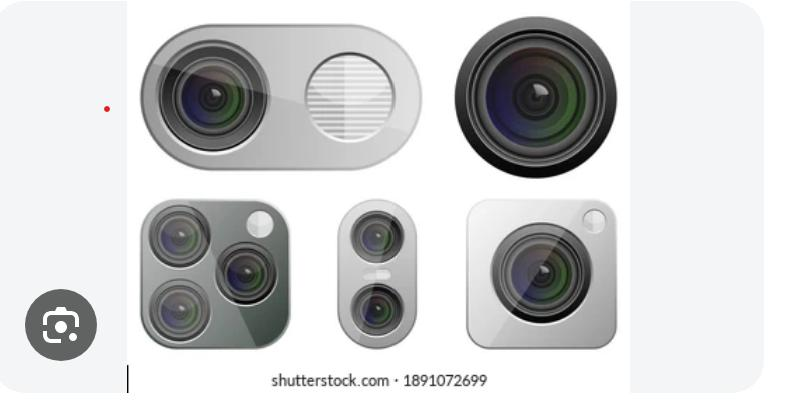hidden camera: (127, 2, 636, 405)
